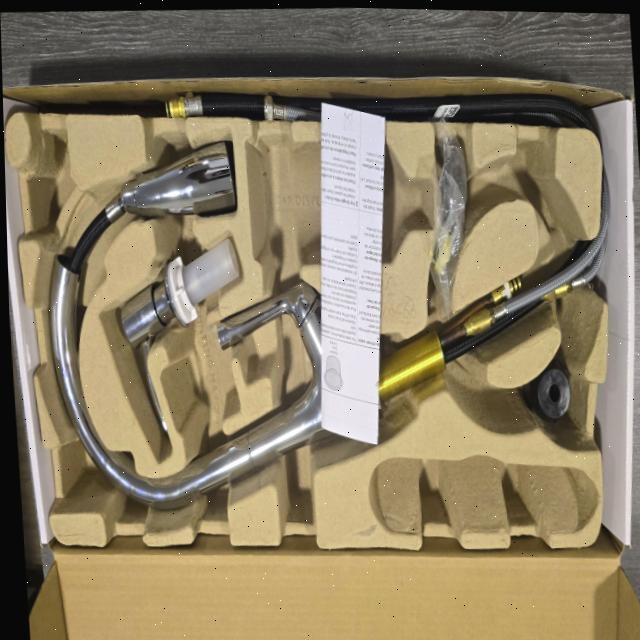1o: (49, 136, 602, 511)
2: (119, 238, 238, 430)
3m: (245, 132, 437, 262)
4m: (369, 456, 596, 530)
5: (522, 361, 571, 423)
6: (432, 114, 466, 320)
7m: (501, 137, 576, 230)
8: (319, 102, 385, 444)
